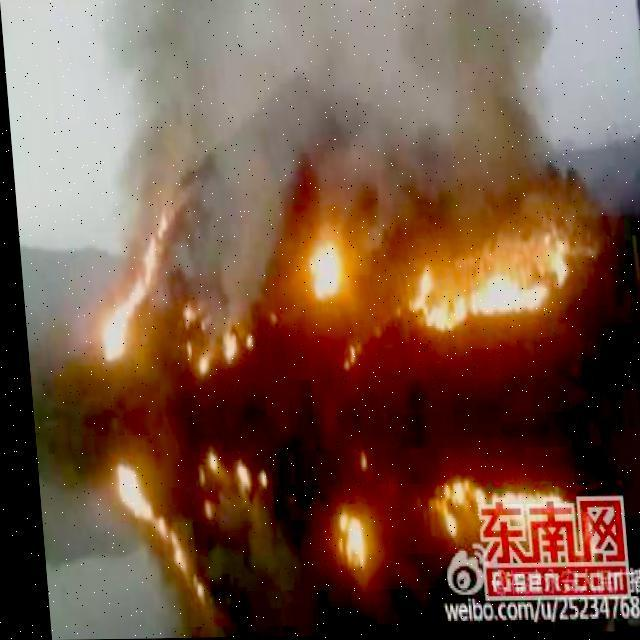Fire: (76, 194, 172, 368), (396, 249, 573, 332), (104, 464, 194, 600), (418, 468, 568, 546), (177, 299, 250, 376), (189, 452, 263, 516), (300, 237, 346, 300), (326, 510, 356, 576)
